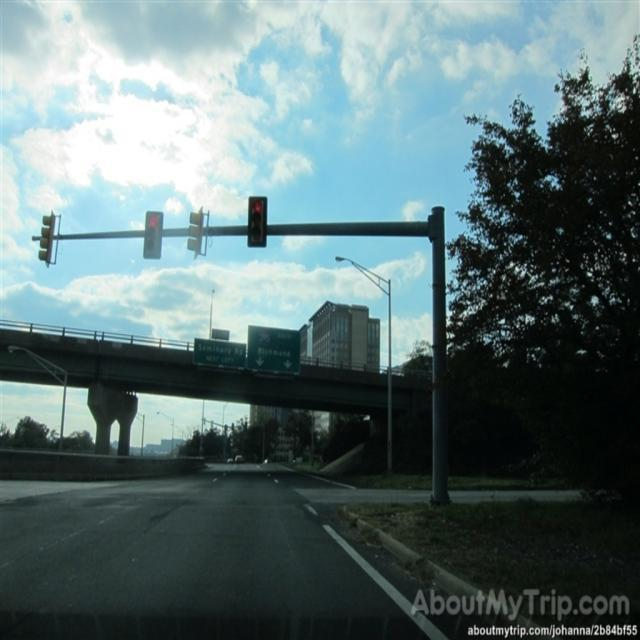off traffic light: (188, 207, 211, 260), (39, 211, 60, 266)
traffic light: (247, 192, 268, 245), (144, 210, 164, 258)
